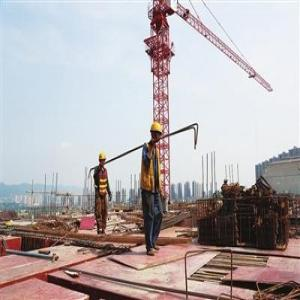yellow: (150, 122, 164, 145), (98, 152, 107, 168)
